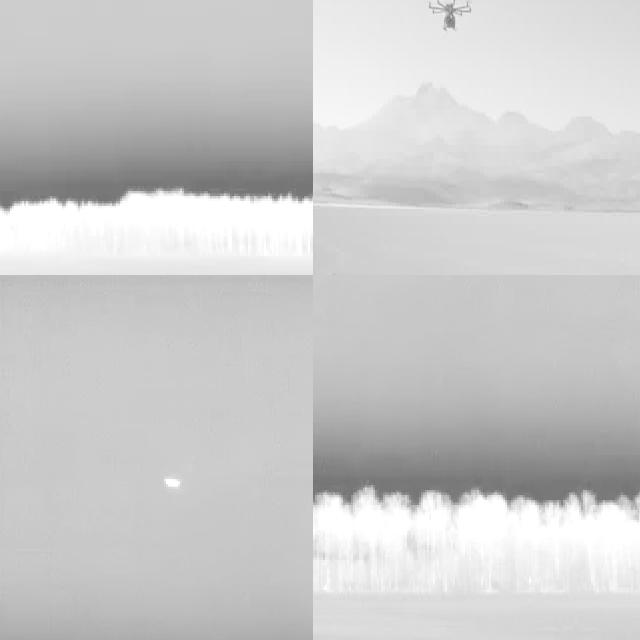1: (154, 472, 190, 502)
drone: (425, 0, 471, 36)
